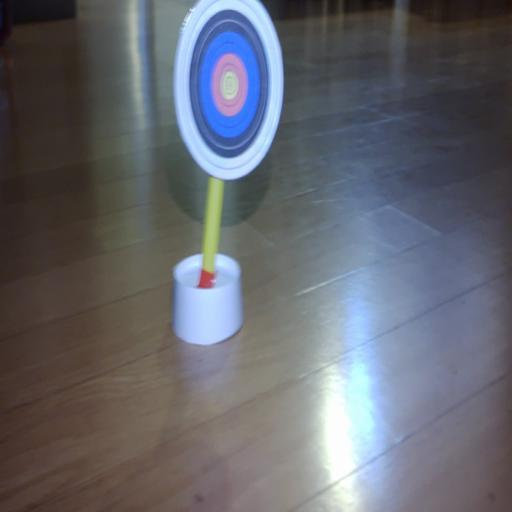target: (175, 0, 283, 178)
